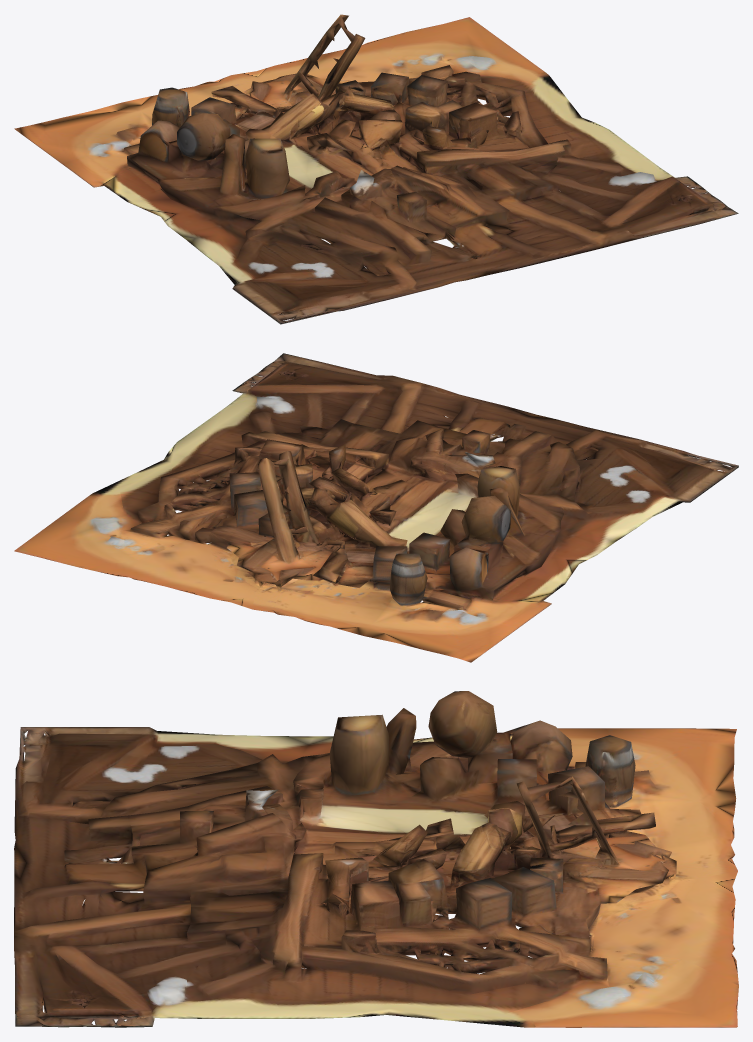
The model's file is BrokenHouse_wooden.glb.
The picture shows the model from 3 angles, top to bottom: view 1: azimuth 30°, elevation 25°; view 2: azimuth 150°, elevation 25°; view 3: azimuth 270°, elevation 25°; orthographic projection. The views are drawn at different scales.
Size of the model in its own units: 1.96 by 0.3979 by 2.
1 material, 1 textured.
